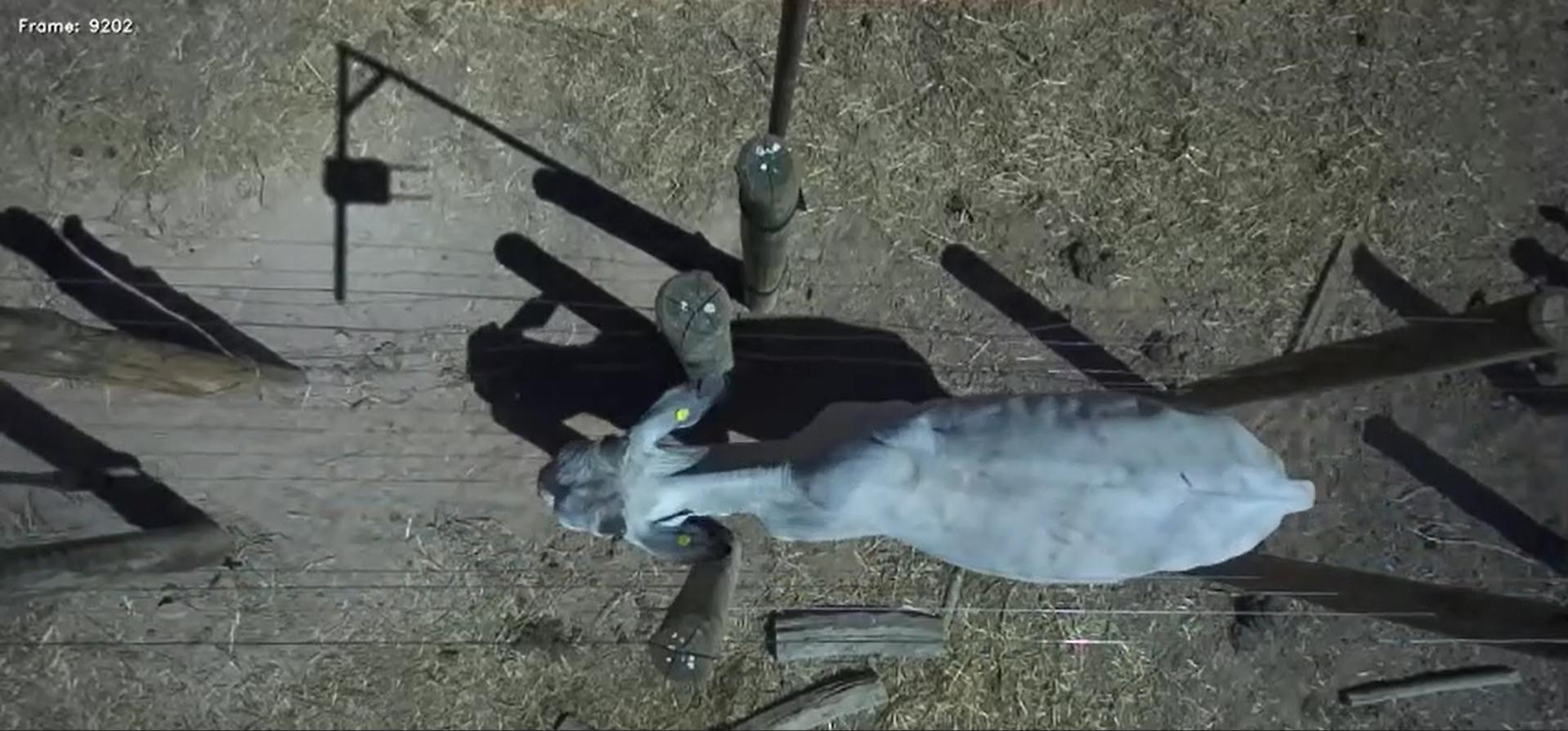cattle: (533, 361, 1327, 593)
